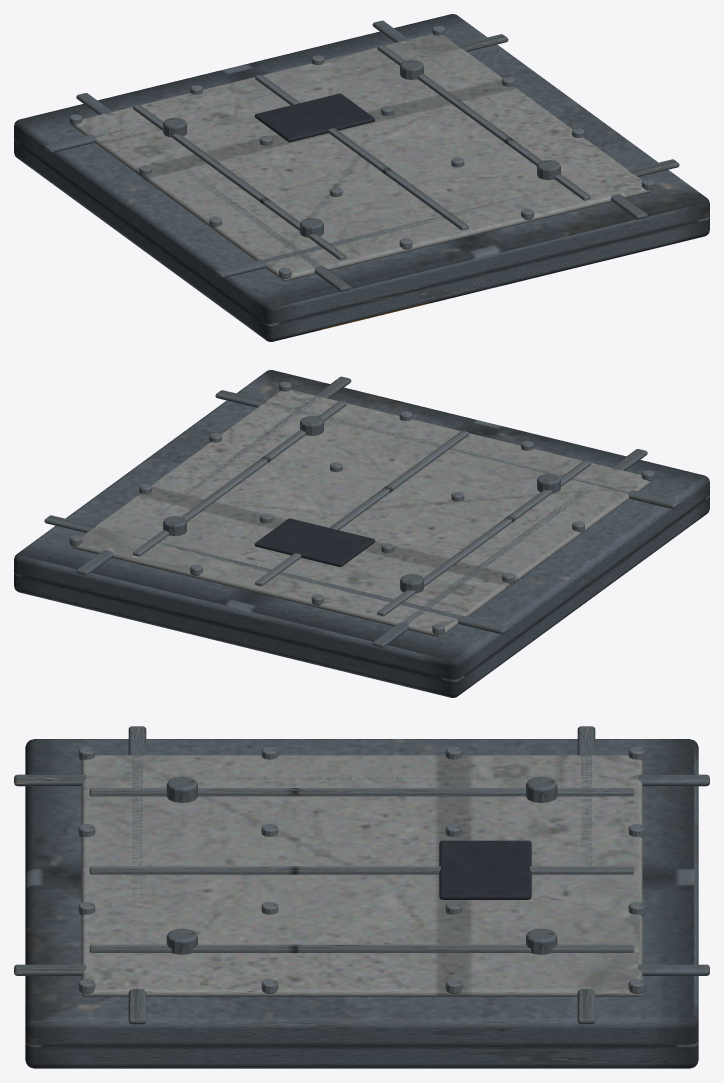
The model's file is deck_6x6.glb.
The picture shows the model from 3 angles, top to bottom: view 1: azimuth 30°, elevation 25°; view 2: azimuth 150°, elevation 25°; view 3: azimuth 270°, elevation 25°; orthographic projection. The views are drawn at different scales.
Parts seen in each view (by area): view 1: DeckInset, DeckPlate, DeckServiceHatch, DeckServiceChannel0, DeckSeam1, DeckSeamZ0, DeckServiceChannel2, DeckServiceChannel1, DeckSeam0, DeckSeamZ1; view 2: DeckInset, DeckPlate, DeckServiceHatch, DeckSeam0, DeckSeamZ0, DeckSeam1, DeckServiceChannel0, DeckServiceChannel2, DeckServiceChannel1, DeckSeamZ1; view 3: DeckInset, DeckPlate, DeckServiceHatch, DeckServiceChannel2, DeckServiceChannel0, DeckServiceChannel1, DeckSeamZ0, DeckSeam1, DeckSeam0, DeckSeamZ1, DeckBolt1, DeckBolt3 (+2 smaller).
Part boxes in pixels (x1,y1,x2,y2): DeckInset: (71, 33, 652, 281); DeckPlate: (14, 14, 709, 341); DeckServiceHatch: (254, 93, 375, 142); DeckServiceChannel0: (133, 104, 346, 260); DeckSeam1: (215, 159, 679, 278); DeckSeamZ0: (76, 93, 351, 291); DeckServiceChannel2: (377, 45, 590, 200); DeckServiceChannel1: (255, 74, 468, 230); DeckSeam0: (44, 34, 508, 153); DeckSeamZ1: (372, 20, 647, 219); DeckInset: (71, 389, 652, 637); DeckPlate: (14, 370, 709, 697); DeckServiceHatch: (254, 518, 375, 566); DeckSeam0: (44, 515, 508, 634); DeckSeamZ0: (372, 449, 647, 647); DeckSeam1: (215, 390, 679, 509); DeckServiceChannel0: (377, 460, 590, 616); DeckServiceChannel2: (133, 401, 346, 556); DeckServiceChannel1: (255, 430, 468, 586); DeckSeamZ1: (76, 376, 351, 575); DeckInset: (81, 755, 642, 996); DeckPlate: (25, 739, 698, 1068); DeckServiceHatch: (439, 840, 531, 899); DeckServiceChannel2: (89, 944, 634, 952); DeckServiceChannel0: (89, 788, 634, 796); DeckServiceChannel1: (89, 866, 634, 874); DeckSeamZ0: (14, 774, 709, 786); DeckSeam1: (128, 726, 146, 1024); DeckSeam0: (577, 726, 595, 1024); DeckSeamZ1: (14, 964, 709, 975); DeckBolt1: (526, 776, 557, 802); DeckBolt3: (166, 776, 197, 802).
Bounding box in the file's own units: 6.2 × 0.7 × 6.2.
5 materials, 5 textured.
